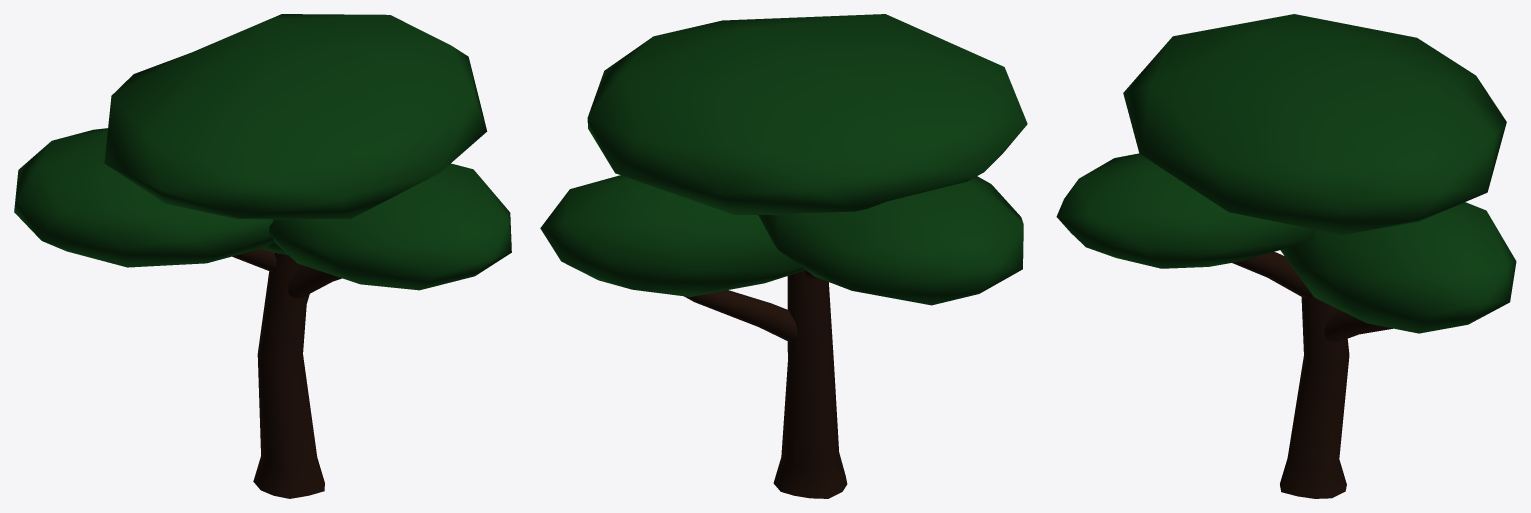
Rendered from Tree_D.obj.
The picture shows the model from 3 angles, left to right: view 1: azimuth 30°, elevation 25°; view 2: azimuth 150°, elevation 25°; view 3: azimuth 270°, elevation 25°; orthographic projection.
Visible parts, largest first — view 1: pSolid8 Tree_D, Tree_D pCylinder60; view 2: pSolid8 Tree_D, Tree_D pCylinder60; view 3: pSolid8 Tree_D, Tree_D pCylinder60.
Part boxes in pixels (x1,y1,x2,y2): pSolid8 Tree_D: (14, 14, 511, 290); Tree_D pCylinder60: (232, 248, 341, 498); pSolid8 Tree_D: (540, 14, 1027, 305); Tree_D pCylinder60: (684, 270, 847, 498); pSolid8 Tree_D: (1056, 14, 1516, 333); Tree_D pCylinder60: (1232, 252, 1392, 498).
Bounding box in the file's own units: 10.05 × 9.69 × 9.48.
